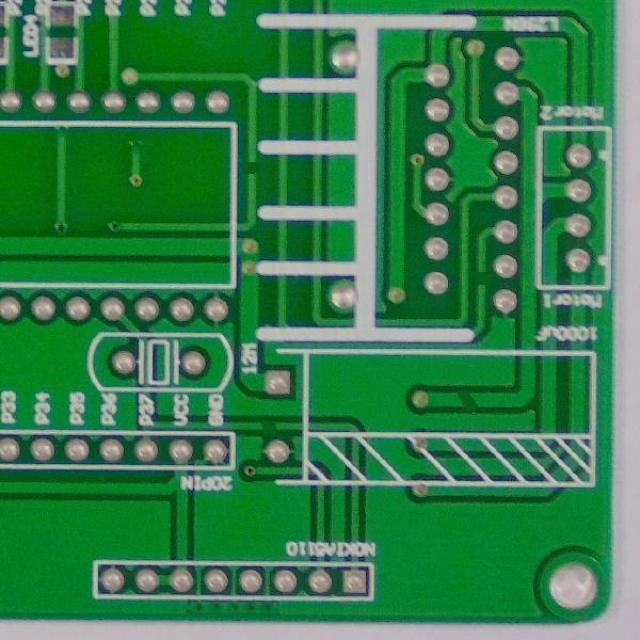Open_Circuit: (448, 387, 486, 414), (236, 153, 264, 185), (471, 260, 492, 294), (253, 418, 286, 434)
